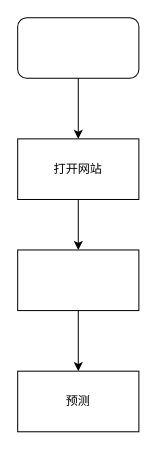
Image size: 157x449. Some labels were removed from this diagram. Each missing label, with the centre of its shape:
"开始" goes at point (78, 47).
"登录账号" goes at point (78, 280).
